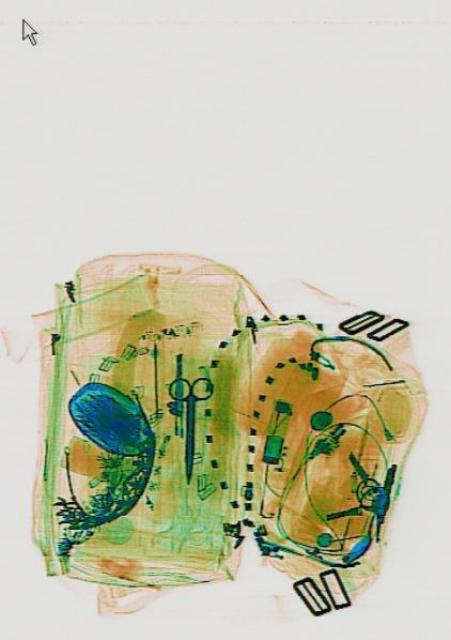Scissors: (166, 376, 209, 484)
